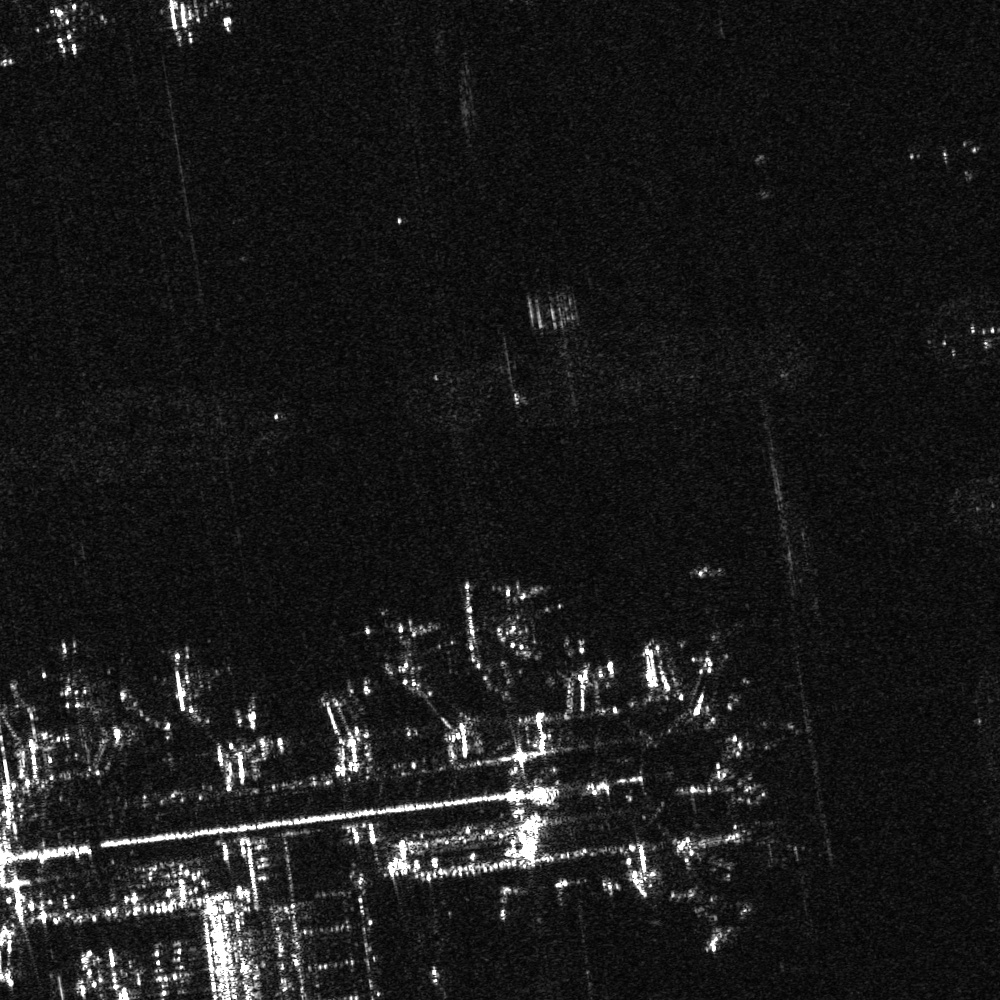A220: (144, 642, 225, 716), (42, 634, 113, 708), (365, 601, 445, 664), (483, 563, 550, 615)
